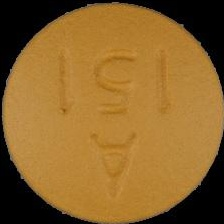21695-909: (0, 0, 224, 224)
